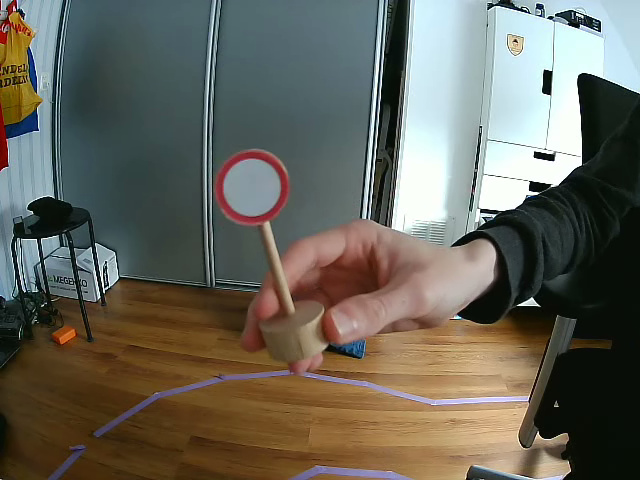wegdicht: (217, 149, 290, 226)
